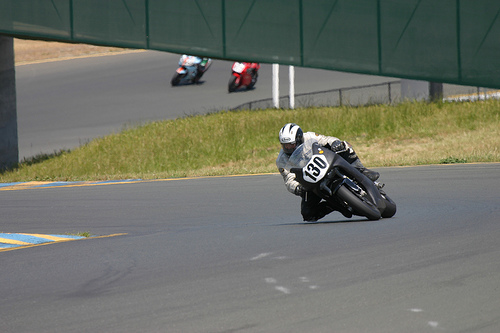helmet: (275, 124, 309, 150)
